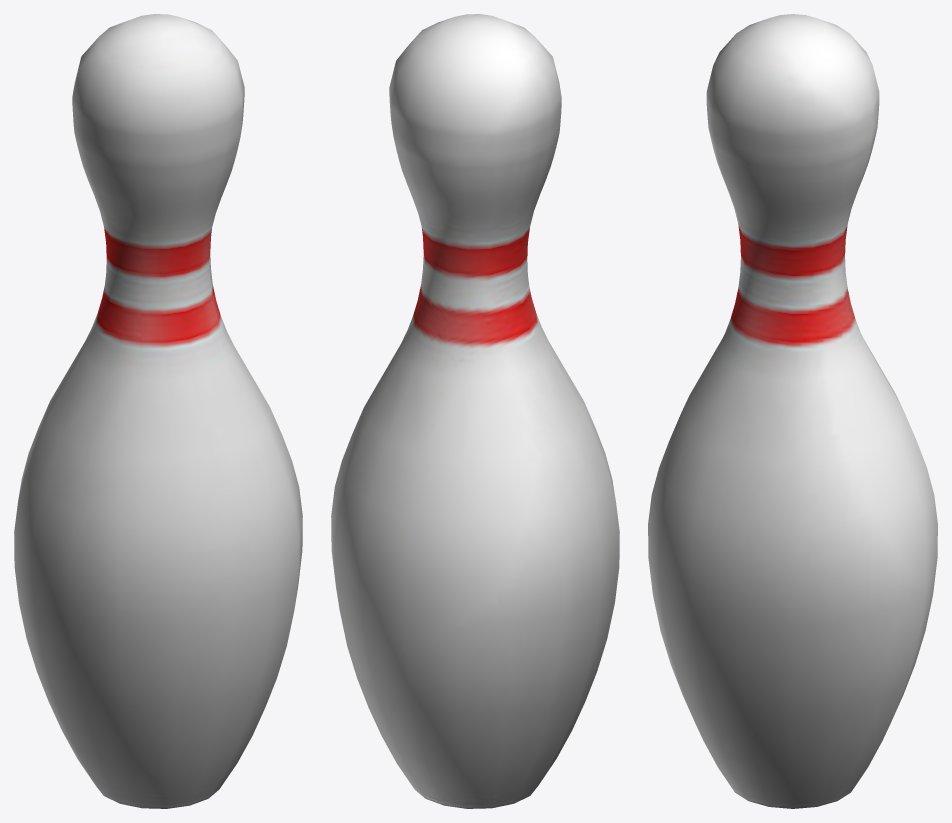
The model's file is BowlingPin.glb.
3 views of the same model, side by side, from view 1: azimuth 30°, elevation 25°; view 2: azimuth 150°, elevation 25°; view 3: azimuth 270°, elevation 25° (orthographic).
Parts seen in each view (by area): view 1: Newpin; view 2: Newpin; view 3: Newpin.
Boxes of the visible parts, <box> form: Newpin: <box>14,14,302,808</box>; Newpin: <box>331,14,619,808</box>; Newpin: <box>648,14,937,808</box>.
Size of the model in its own units: 0.5476 by 1.57 by 0.5452.
Materials: 1 (1 with a texture image).
